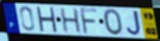0: (19, 5, 36, 32)
F: (79, 7, 99, 36)
H: (35, 6, 59, 34), (59, 8, 83, 35)
J: (126, 10, 143, 36)
O: (103, 8, 125, 37)
